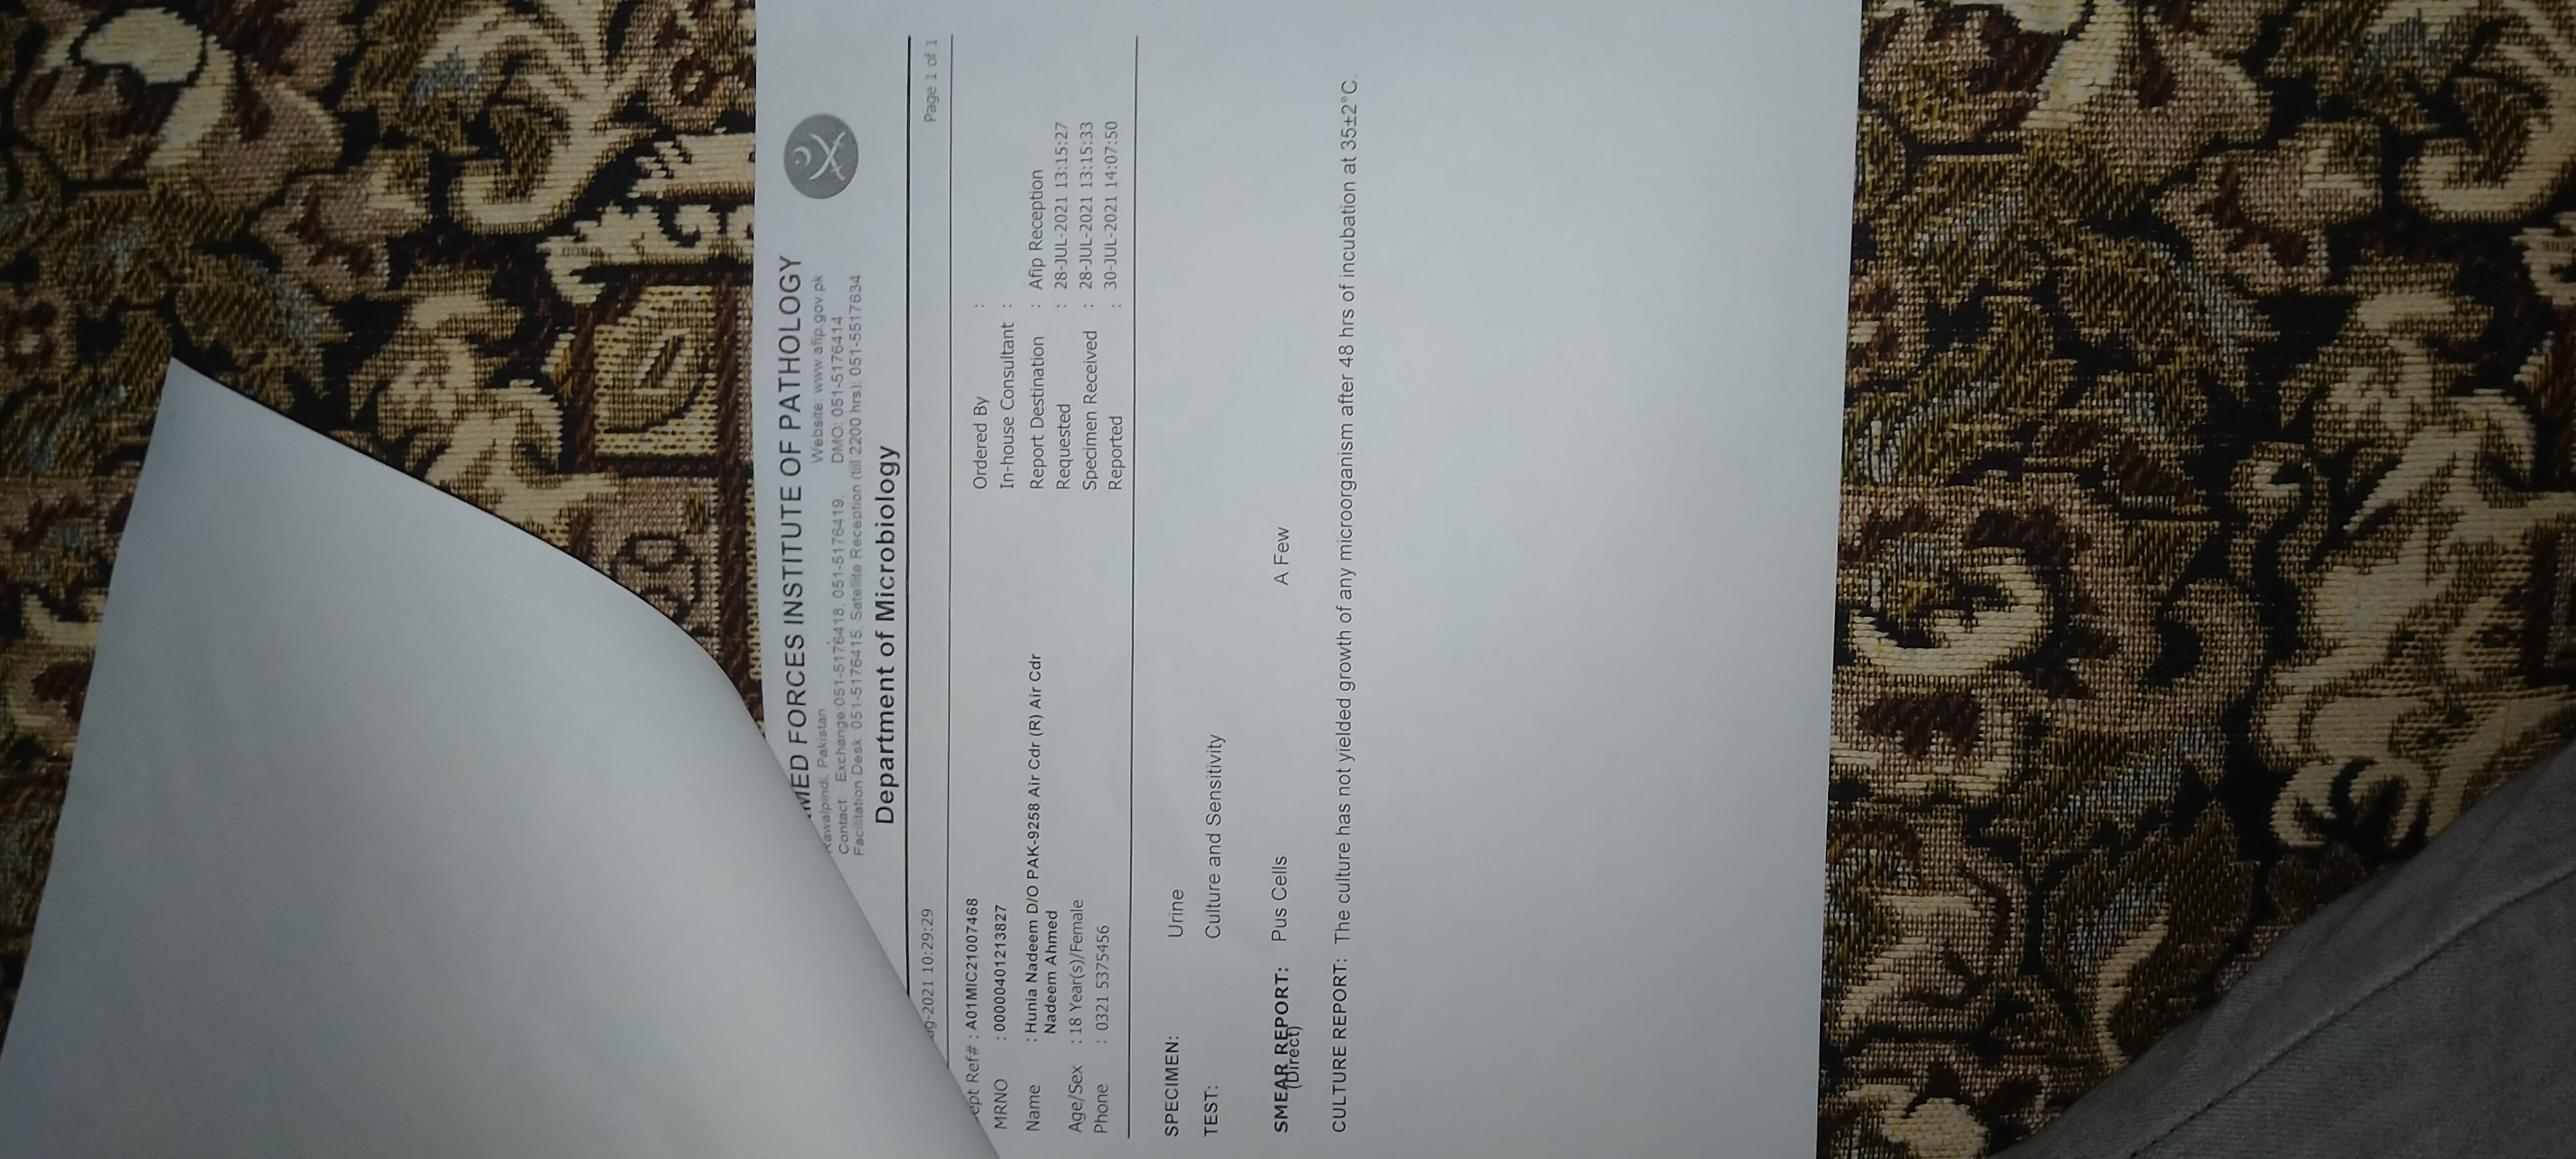report: (894, 8, 1157, 1159)
